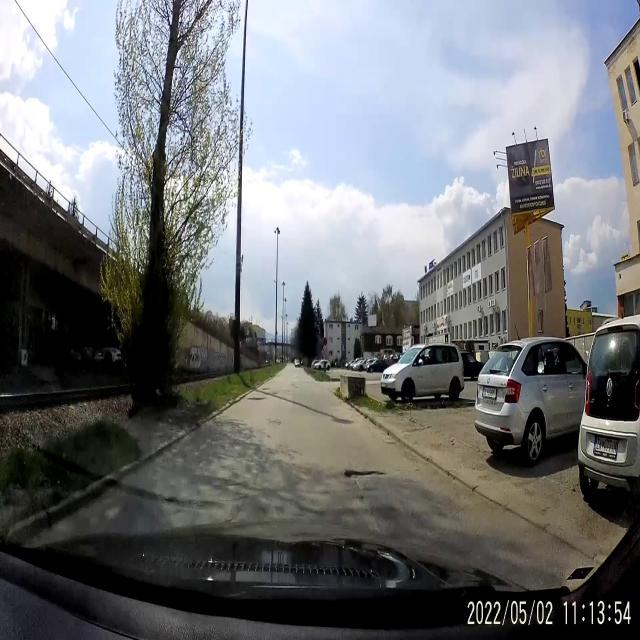Pothole: (342, 460, 384, 488), (248, 392, 268, 406)
